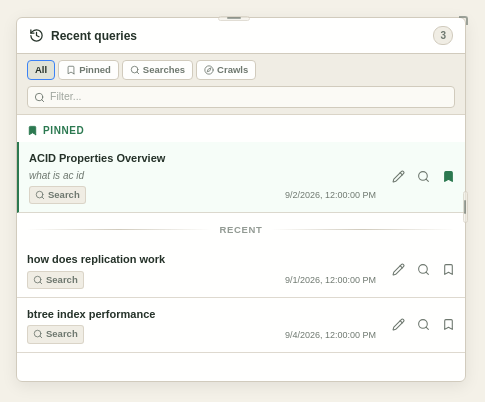
Scenario: HistoryDrawer › filters history via in-drawer search input and shows empty filter message
The image size is (485, 402).
# Filter for replication
Type "replication" into the field named "Filter history" at (249, 97), box [50, 89, 448, 105]
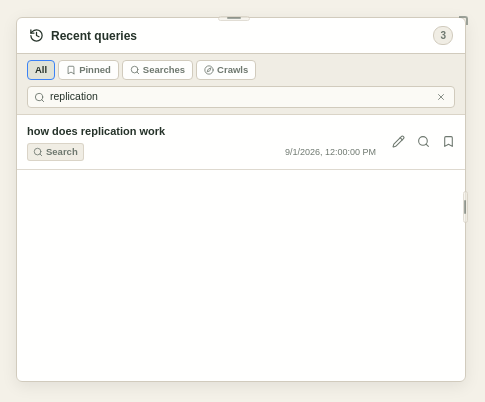
Expected: the text "how does replication work" is shown, [27, 125, 165, 137]
Expected: the button "ACID Properties Overview" is gone
Expected: the button "btree index performance" is gone
# Filter for non-matching
Replace the text in the field named "Filter history" with "nonexistent xyz" at (240, 97), box [50, 89, 429, 105]
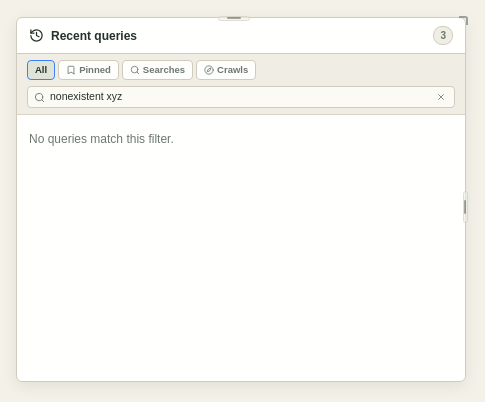
Expected: the text "No queries match this filter." is shown, [29, 132, 174, 146]
# Clear filter
Click the button named "Clear filter" at (441, 97), box [434, 90, 448, 104]
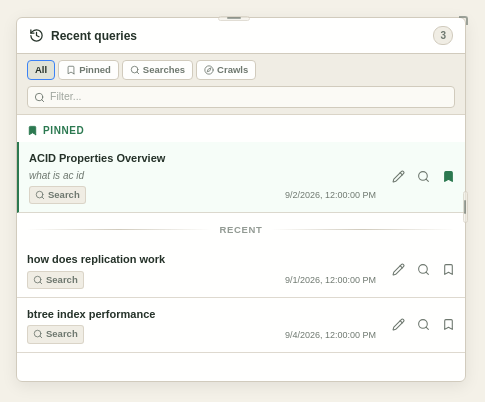
Expected: the text "how does replication work" is shown, [27, 253, 165, 265]
Expected: the text "ACID Properties Overview" is shown, [29, 152, 165, 164]
Expected: the text "btree index performance" is shown, [27, 308, 155, 320]
